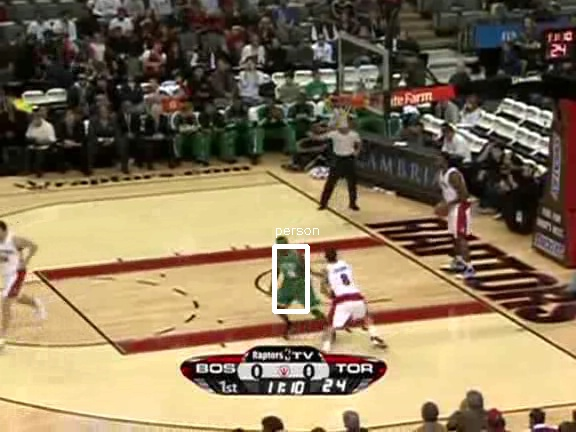person: (275, 239, 309, 320), (274, 239, 308, 320), (276, 239, 310, 320), (275, 238, 309, 319), (275, 240, 309, 321)
target_negative: (285, 63, 509, 334), (240, 80, 392, 364), (45, 226, 536, 296), (62, 192, 78, 413), (193, 365, 362, 379), (253, 241, 254, 291)
